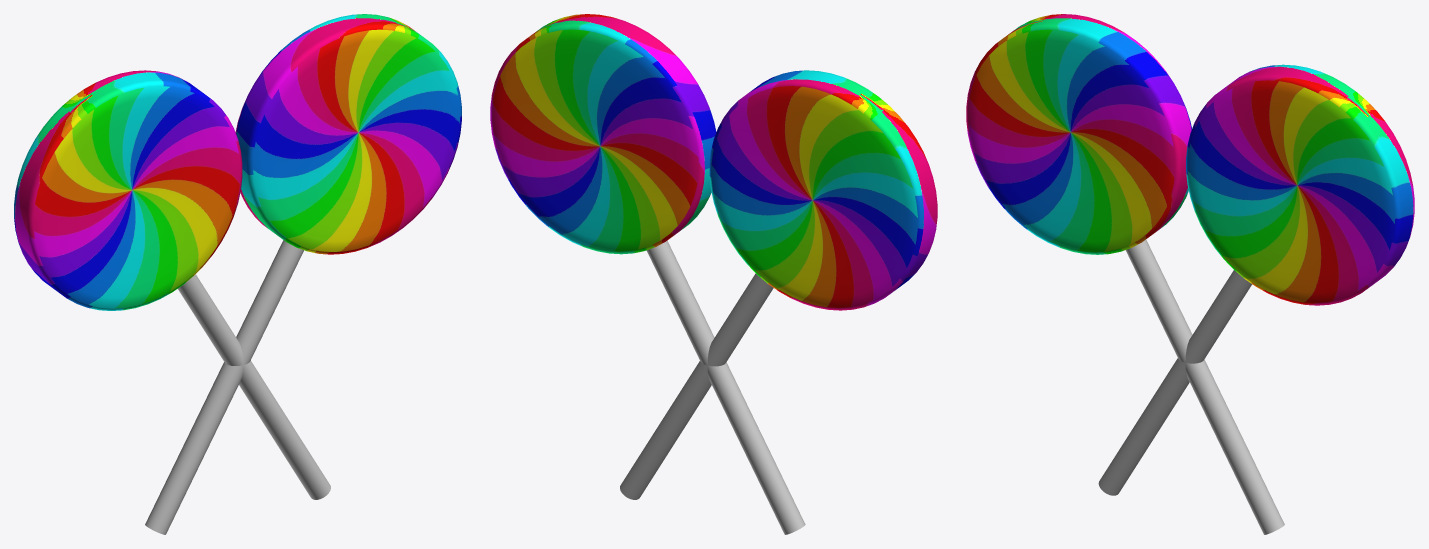
Rendered from lollipopDouble.fbx.
The picture shows the model from 3 angles, left to right: view 1: azimuth 30°, elevation 25°; view 2: azimuth 150°, elevation 25°; view 3: azimuth 330°, elevation 25°; orthographic projection.
Parts seen in each view (by area): view 1: pCylinder2 (×2), pCylinder1 (×2); view 2: pCylinder2 (×2), pCylinder1 (×2); view 3: pCylinder2 (×2), pCylinder1 (×2).
Boxes of the visible parts, left/top/right/bottom form: pCylinder2 (×2): left=14, top=14, right=461, bottom=310; pCylinder1 (×2): left=145, top=240, right=330, bottom=534; pCylinder2 (×2): left=490, top=14, right=937, bottom=310; pCylinder1 (×2): left=620, top=240, right=805, bottom=534; pCylinder2 (×2): left=966, top=14, right=1414, bottom=305; pCylinder1 (×2): left=1098, top=239, right=1284, bottom=534.
Size of the model in its own units: 7.95 by 8.22 by 0.5926.
